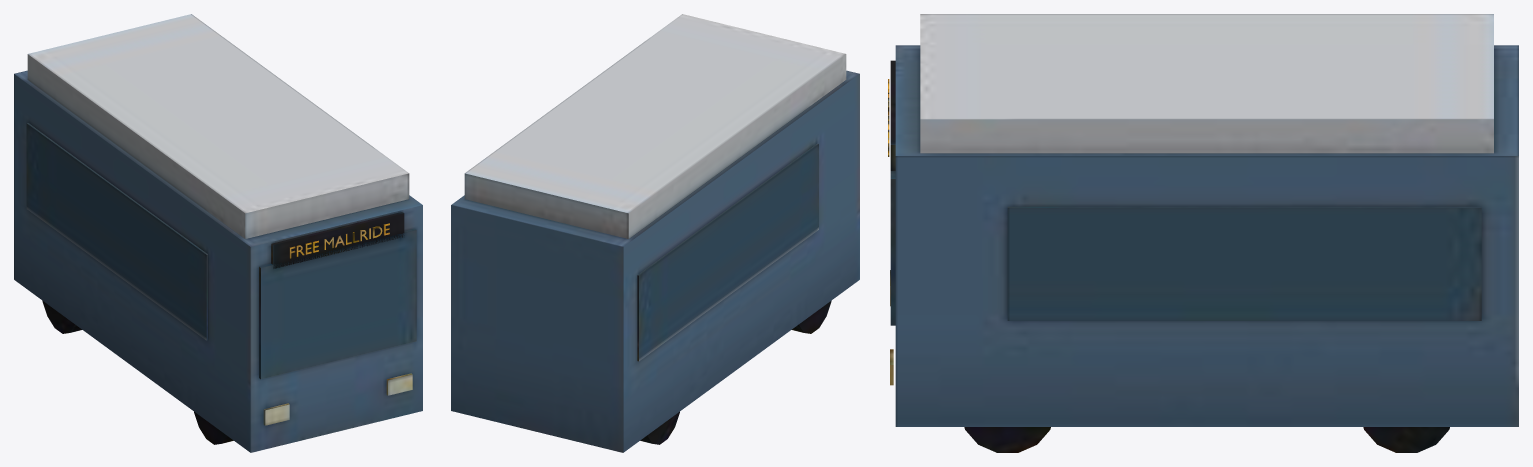
Rendered from mallride.glb.
3 renders of one model, left to right at view 1: azimuth 30°, elevation 25°; view 2: azimuth 150°, elevation 25°; view 3: azimuth 270°, elevation 25°, orthographic. The views are drawn at different scales.
Parts seen in each view (by area): view 1: mallride; view 2: mallride; view 3: mallride.
Boxes of the visible parts, box(x1,y1,x2,y2) form: mallride: box(14, 14, 422, 452); mallride: box(451, 14, 859, 452); mallride: box(888, 14, 1518, 452).
Size of the model in its own units: 2.14 by 2.94 by 5.06.
1 material, 1 textured.
